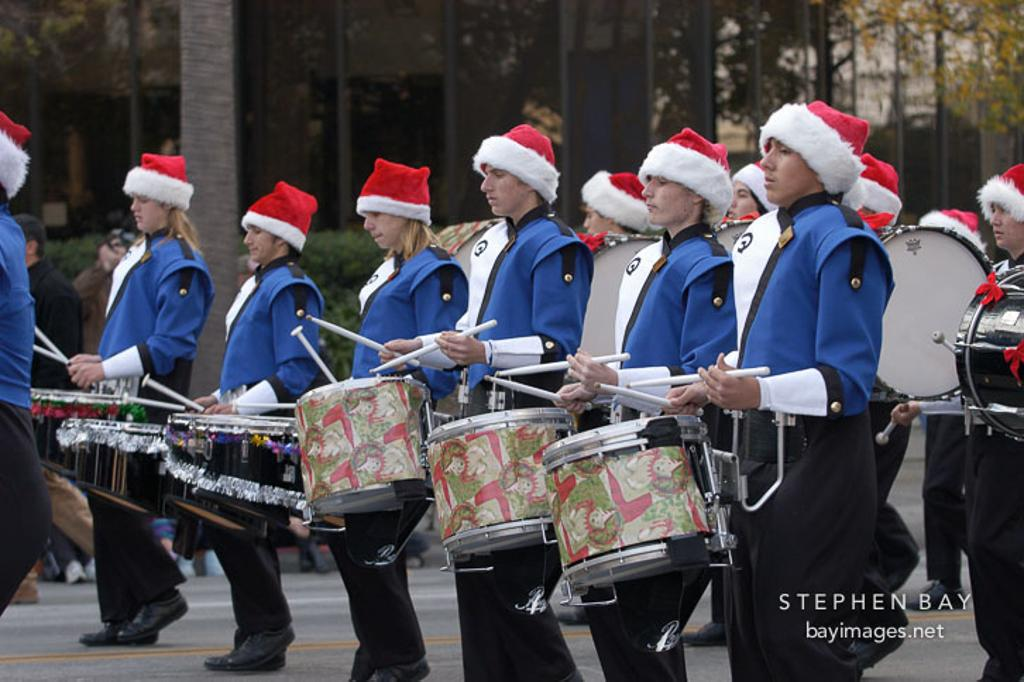face: (761, 129, 815, 202), (642, 166, 692, 224), (482, 157, 526, 216), (990, 189, 1023, 247), (364, 205, 403, 248), (244, 215, 277, 262), (729, 178, 762, 225), (132, 188, 165, 231), (585, 201, 609, 240), (106, 244, 132, 273)
